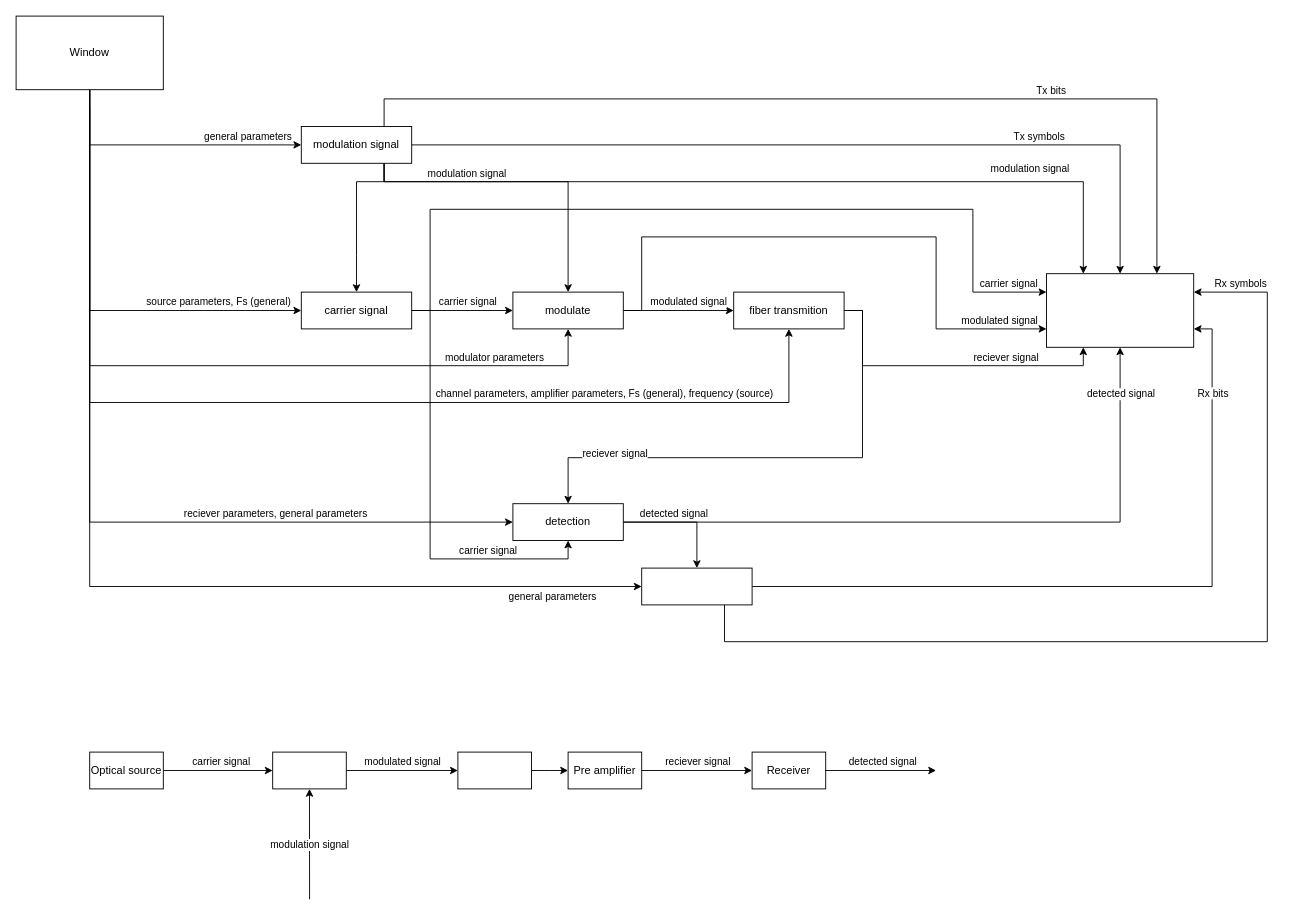
Some shapes in this 1291 by 923 pixel diagram are drawn without their labels. Here are the shapes that lost their labels. From the top down, the box of each, then its label:
(1046, 273, 1194, 347): Simulation results
(641, 567, 752, 605): restore information
(272, 751, 346, 789): Modulator
(457, 751, 531, 789): Channel
